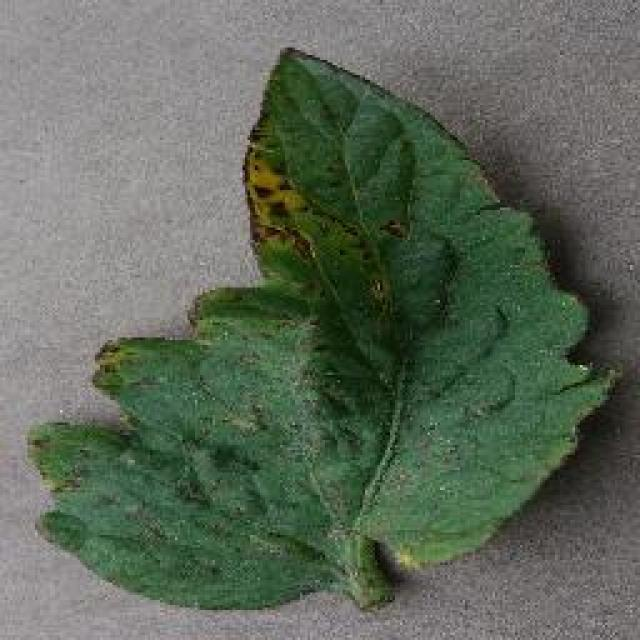Tomato bacterial spot leaf: (22, 28, 625, 622)
